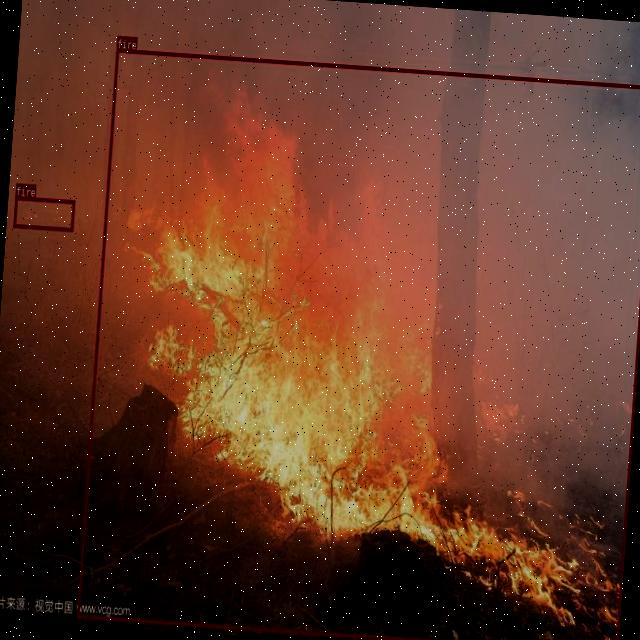fire: (75, 47, 640, 640), (12, 195, 74, 231)
